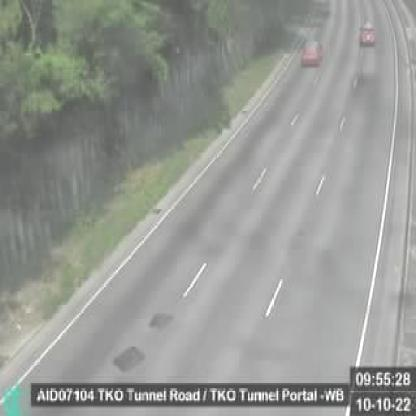Car: (302, 38, 323, 66), (360, 22, 376, 44)
